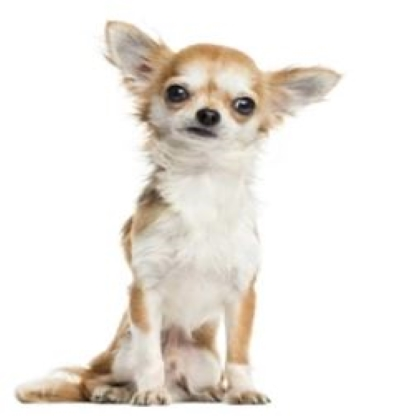chihuahua: (21, 18, 345, 408)
